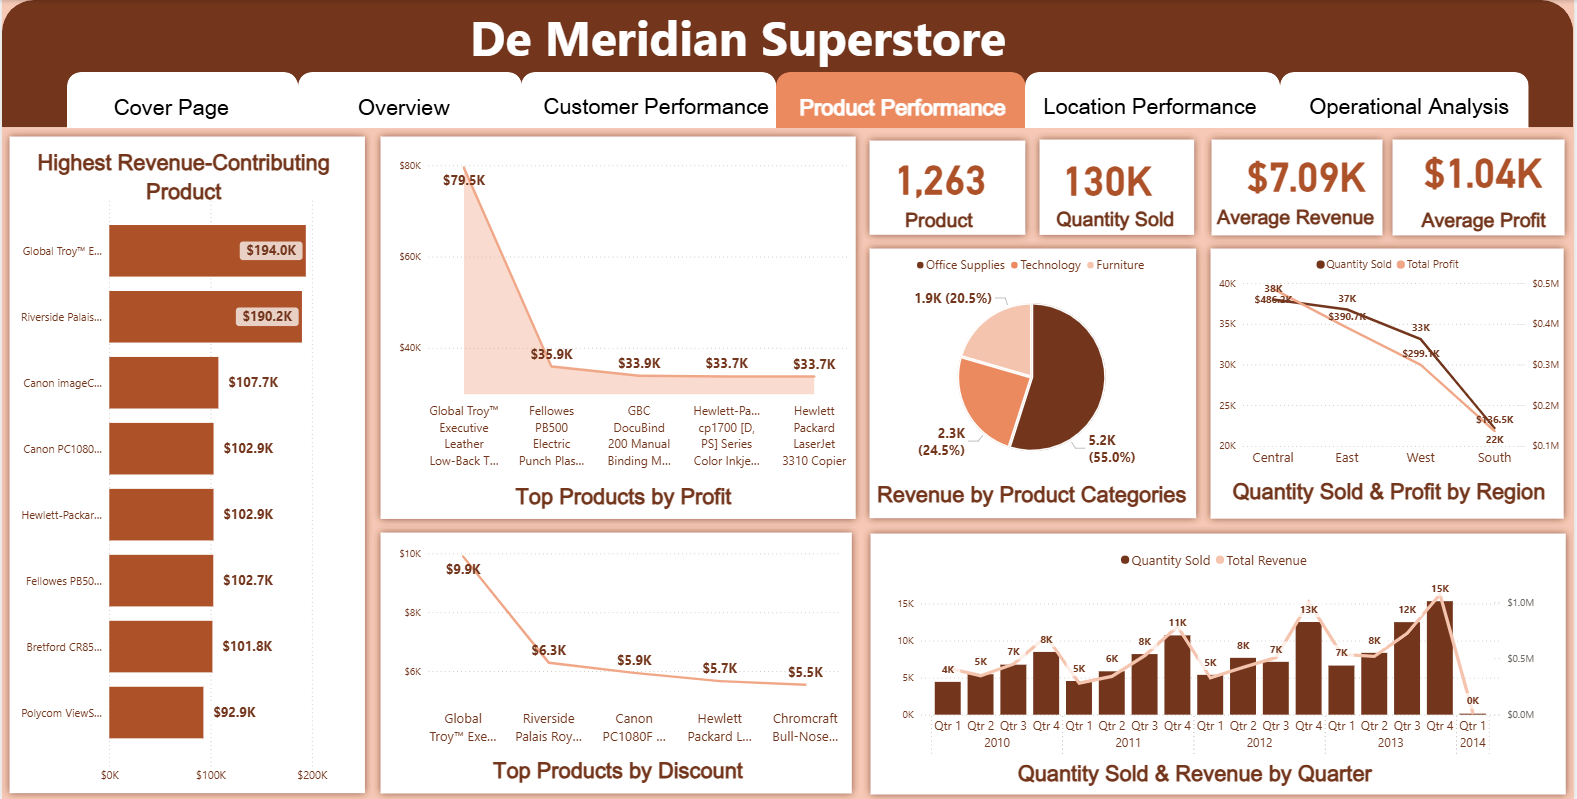

Layout of this report page (visuals, bound fields, positions):
{"tool":"powerbi","page":{"name":"Product Performance","canvas":[1920,980],"ordinal":3},"visuals":[{"type":"shape","box":[0,0,1920,155.6],"z":0,"group":"g1"},{"type":"shape","box":[79,87.8,282.5,68.8],"z":1000,"group":"g1"},{"type":"shape","box":[361.5,87.8,273.8,68.8],"z":2000,"group":"g1"},{"type":"shape","box":[634.2,88,312,68.5],"z":3000,"group":"g1"},{"type":"shape","box":[946,87.8,305,68.8],"z":4000,"group":"g1"},{"type":"shape","box":[1250,88,311.8,68.5],"z":5000,"group":"g1"},{"type":"shape","box":[1561.8,88,304,68.5],"z":6000,"group":"g1"},{"type":"textbox","box":[566.7,0,683.1,89.3],"z":8000,"group":"g1"},{"type":"textbox","box":[107.7,107.5,198.8,48.8],"z":9000,"group":"g1"},{"type":"textbox","box":[406.4,108.1,167.5,47.5],"z":10000,"group":"g1"},{"type":"textbox","box":[653.1,106.2,293.8,51.1],"z":11000,"group":"g1"},{"type":"textbox","box":[965.2,107.5,270,48.8],"z":12000,"group":"g1"},{"type":"textbox","box":[1262.3,106.3,281,50.1],"z":13000,"group":"g1"},{"type":"textbox","box":[1570.8,106.6,296.3,50.5],"z":14000,"group":"g1"},{"type":"shape","box":[0,158,452.9,820.8],"z":17000,"group":"g1"},{"type":"shape","box":[1468.5,160.7,227.3,135.6],"z":18000,"group":"g1"},{"type":"shape","box":[1690.3,160.7,228.7,135.6],"z":19000,"group":"g1"},{"type":"shape","box":[452.9,158,599.1,485.9],"z":20000,"group":"g1"},{"type":"shape","box":[1050.7,294.8,417.6,348],"z":21000,"group":"g1"},{"type":"shape","box":[1468.1,294.3,450,348.6],"z":22000,"group":"g1"},{"type":"shape","box":[452.9,641.6,594.4,337.3],"z":23000,"group":"g1"},{"type":"shape","box":[1052,642.7,868,337.3],"z":24000,"group":"g1"},{"type":"textbox","box":[603.8,582.6,311.4,49.5],"z":25000,"group":"g1"},{"type":"areaChart","fields":{"Y":["Measures (2).Total Profit"],"Category":["Products.Product Name"]},"box":[471.7,188.7,575.5,391.5],"z":26000,"group":"g1"},{"type":"textbox","box":[1058.7,580,400,51.4],"z":27000,"group":"g1"},{"type":"clusteredBarChart","fields":{"Category":["Products.Product Name"],"Y":["Measures (2).Total Revenue"]},"box":[6.5,230.3,446.4,736.2],"z":28000,"group":"g1"},{"type":"textbox","box":[19.4,174.7,405,93.2],"z":29000,"group":"g1"},{"type":"pieChart","fields":{"Y":["CountNonNull(Orders.Customer ID)"],"Category":["Products.Product Category"]},"box":[1067.3,302.9,382.9,284.3],"z":30000,"group":"g1"},{"type":"lineClusteredColumnComboChart","fields":{"Y2":["Measures (2).Total Revenue"],"Y":["Measures (2).Quantity Sold"],"Category":["Calendar.Date.Variation.Date Hierarchy.Year","Calendar.Date.Variation.Date Hierarchy.Quarter"]},"box":[1088.7,662.2,788.6,270],"z":31000,"group":"g1"},{"type":"lineChart","fields":{"Category":["Locations.Region"],"Y2":["Measures (2).Total Profit"],"Y":["Measures (2).Quantity Sold"]},"box":[1482.4,302.9,425.7,277.1],"z":32000,"group":"g1"},{"type":"textbox","box":[1482.7,576.6,424.9,51.7],"z":33000,"group":"g1"},{"type":"textbox","box":[1225.7,921.5,463.7,50.4],"z":34000,"group":"g1"},{"type":"textbox","box":[1724.6,247,172.6,45.2],"z":35000,"group":"g1"},{"type":"card","fields":{"Values":["Measures (2).Average Profit by Product"]},"box":[1731.4,170.3,156.1,71.2],"z":36000,"group":"g1"},{"type":"shape","box":[1051.1,162.9,208.8,133.7],"z":37000,"group":"g1"},{"type":"textbox","box":[1474.1,243.4,214.2,47.8],"z":38000,"group":"g1"},{"type":"card","fields":{"Values":["Measures (2).Avg Revenue by Product"]},"box":[1501.3,174.4,183.5,71.2],"z":39000,"group":"g1"},{"type":"textbox","box":[1067.2,247,156.1,43.8],"z":40000,"group":"g1"},{"type":"card","fields":{"Values":["CountNonNull(Products.Product ID)"]},"box":[1075.4,178.5,142.4,71.2],"z":41000,"group":"g1"},{"type":"lineChart","fields":{"Category":["Products.Product Name"],"Y":["Measures (2).Discount Impact"]},"box":[471.7,662.8,563.7,254.7],"z":42000,"group":"g1"},{"type":"textbox","box":[582.6,917.5,339.7,49.5],"z":43000,"group":"g1"},{"type":"shape","box":[1258.5,161.6,207.4,135.1],"z":44000,"group":"g1"},{"type":"textbox","box":[1276.3,246.2,169.2,47.8],"z":45000,"group":"g1"},{"type":"card","fields":{"Values":["Measures (2).Quantity Sold"]},"box":[1276.3,179.3,148.7,71],"z":46000,"group":"g1"},{"type":"actionButton","box":[81.4,90,278.6,67.1],"z":47000,"group":"g1"},{"type":"actionButton","box":[362.9,90,268.6,67.1],"z":48000,"group":"g1"},{"type":"actionButton","box":[635.7,91.4,305.7,67.1],"z":49000,"group":"g1"},{"type":"actionButton","box":[947.1,91.4,305.7,67.1],"z":50000,"group":"g1"},{"type":"actionButton","box":[1255.7,91.4,305.7,67.1],"z":51000,"group":"g1"},{"type":"actionButton","box":[1561.4,91.4,305.7,67.1],"z":52000,"group":"g1"},{"type":"group","id":"g1","title":"Group 1","box":[0,0,1920,980],"z":52001}]}

Visuals, with their boxes in screenshot pixels (x1, y1, x2, y2), scaled from the page's 1920x980 canvas onto the 1577x799 screenshot:
shape: x1=0 y1=0 x2=1576 y2=127
shape: x1=65 y1=72 x2=297 y2=128
shape: x1=297 y1=72 x2=522 y2=128
shape: x1=521 y1=72 x2=777 y2=128
shape: x1=777 y1=72 x2=1028 y2=128
shape: x1=1027 y1=72 x2=1283 y2=128
shape: x1=1283 y1=72 x2=1532 y2=128
textbox: x1=465 y1=0 x2=1027 y2=73
textbox: x1=88 y1=88 x2=252 y2=127
textbox: x1=334 y1=88 x2=471 y2=127
textbox: x1=536 y1=87 x2=778 y2=128
textbox: x1=793 y1=88 x2=1015 y2=127
textbox: x1=1037 y1=87 x2=1268 y2=128
textbox: x1=1290 y1=87 x2=1534 y2=128
shape: x1=0 y1=129 x2=372 y2=798
shape: x1=1206 y1=131 x2=1393 y2=242
shape: x1=1388 y1=131 x2=1576 y2=242
shape: x1=372 y1=129 x2=864 y2=525
shape: x1=863 y1=240 x2=1206 y2=524
shape: x1=1206 y1=240 x2=1575 y2=524
shape: x1=372 y1=523 x2=860 y2=798
shape: x1=864 y1=524 x2=1576 y2=798
textbox: x1=496 y1=475 x2=752 y2=515
areaChart - Measures (2).Total Profit x Products.Product Name: x1=387 y1=154 x2=860 y2=473
textbox: x1=870 y1=473 x2=1198 y2=515
clusteredBarChart - Products.Product Name x Measures (2).Total Revenue: x1=5 y1=188 x2=372 y2=788
textbox: x1=16 y1=142 x2=349 y2=218
pieChart - CountNonNull(Orders.Customer ID) x Products.Product Category: x1=877 y1=247 x2=1191 y2=479
lineClusteredColumnComboChart - Measures (2).Total Revenue x Measures (2).Quantity Sold: x1=894 y1=540 x2=1542 y2=760
lineChart - Locations.Region x Measures (2).Total Profit: x1=1218 y1=247 x2=1567 y2=473
textbox: x1=1218 y1=470 x2=1567 y2=512
textbox: x1=1007 y1=751 x2=1388 y2=792
textbox: x1=1417 y1=201 x2=1558 y2=238
card - Measures (2).Average Profit by Product: x1=1422 y1=139 x2=1550 y2=197
shape: x1=863 y1=133 x2=1035 y2=242
textbox: x1=1211 y1=198 x2=1387 y2=237
card - Measures (2).Avg Revenue by Product: x1=1233 y1=142 x2=1384 y2=200
textbox: x1=877 y1=201 x2=1005 y2=237
card - CountNonNull(Products.Product ID): x1=883 y1=146 x2=1000 y2=204
lineChart - Products.Product Name x Measures (2).Discount Impact: x1=387 y1=540 x2=850 y2=748
textbox: x1=479 y1=748 x2=758 y2=788
shape: x1=1034 y1=132 x2=1204 y2=242
textbox: x1=1048 y1=201 x2=1187 y2=240
card - Measures (2).Quantity Sold: x1=1048 y1=146 x2=1170 y2=204
actionButton: x1=67 y1=73 x2=296 y2=128
actionButton: x1=298 y1=73 x2=519 y2=128
actionButton: x1=522 y1=75 x2=773 y2=129
actionButton: x1=778 y1=75 x2=1029 y2=129
actionButton: x1=1031 y1=75 x2=1282 y2=129
actionButton: x1=1282 y1=75 x2=1534 y2=129
"Group 1" group: x1=0 y1=0 x2=1576 y2=798
